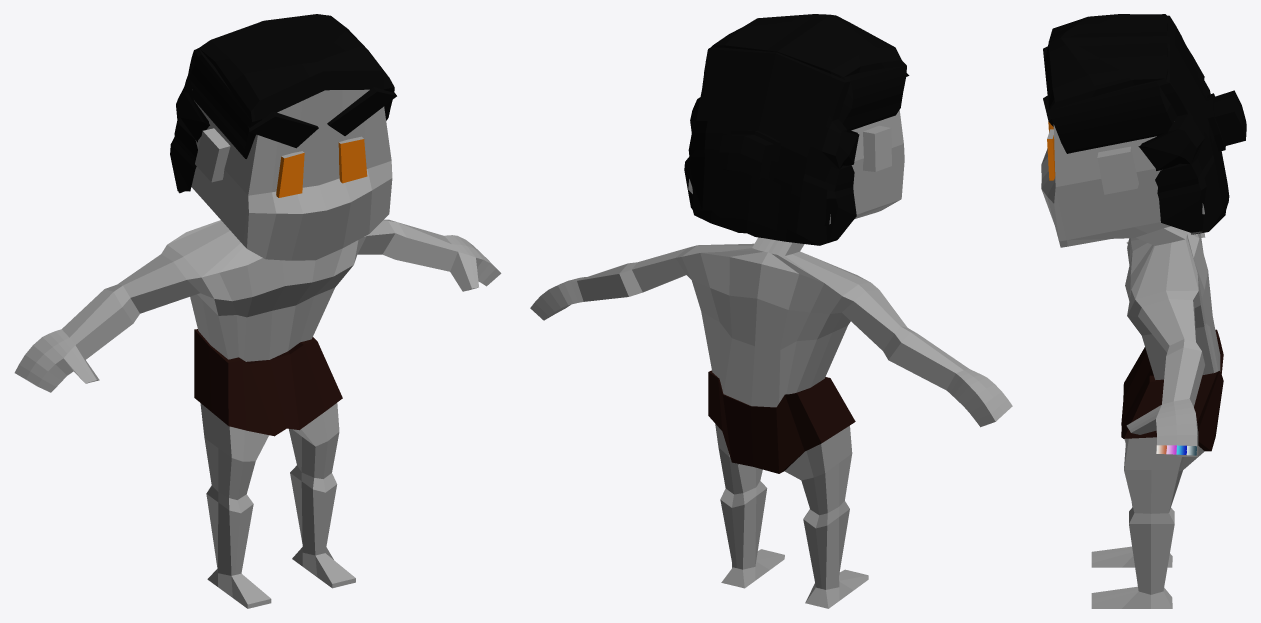
The model's file is Enemy_Evil_Joe.fbx.
The picture shows the model from 3 angles, left to right: view 1: azimuth 30°, elevation 25°; view 2: azimuth 150°, elevation 25°; view 3: azimuth 270°, elevation 25°; orthographic projection.
Visible parts, largest first — view 1: Evil_Joe; view 2: Evil_Joe; view 3: Evil_Joe.
Part boxes in pixels (left/top/right/bottom): Evil_Joe: left=14, top=14, right=501, bottom=608; Evil_Joe: left=530, top=14, right=1012, bottom=608; Evil_Joe: left=1041, top=14, right=1246, bottom=608.
Bounding box in the file's own units: 337 × 375 × 128.
